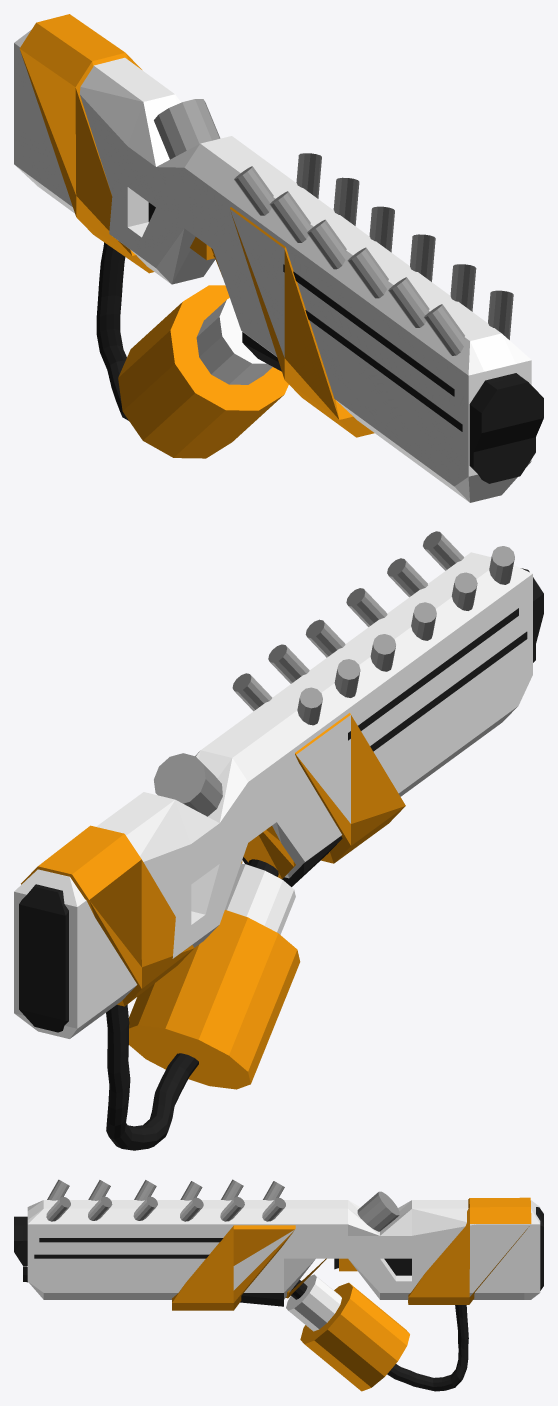
Rendered from Capacitor Rifle.glb.
The picture shows the model from 3 angles, top to bottom: view 1: azimuth 30°, elevation 25°; view 2: azimuth 150°, elevation 25°; view 3: azimuth 270°, elevation 25°; orthographic projection. The views are drawn at different scales.
Parts seen in each view (by area): view 1: group265768751, group201997025, group1638908236, group1494860363, group2056391109, group684696646, group1088588955, group1790223731, group616640639, group1093921766, group1110261251; view 2: group265768751, group201997025, group1638908236, group1538806949, group1790223731, group684696646, group1088588955, group2056391109, group616640639, group1093921766, group1372893271, group1110261251 (+1 smaller); view 3: group265768751, group201997025, group684696646, group1638908236, group1088588955, group1790223731, group2056391109, group1494860363, group616640639, group1606866373, group110904487, group1440918819 (+1 smaller).
Part boxes in pixels (x1,y1,x2,y2): group265768751: (14,30,531,502); group201997025: (118,285,288,458); group1638908236: (19,14,153,273); group1494860363: (242,332,543,483); group2056391109: (234,166,464,355); group684696646: (230,207,374,437); group1088588955: (296,153,513,339); group1790223731: (96,242,128,420); group616640639: (154,99,220,159); group1093921766: (283,264,454,396); group1110261251: (305,310,462,431); group265768751: (14,552,532,1038); group201997025: (129,859,300,1089); group1638908236: (21,825,194,1006); group1538806949: (19,884,68,1032); group1790223731: (106,1004,198,1150); group684696646: (295,713,405,863); group1088588955: (232,531,463,711); group2056391109: (297,546,514,725); group616640639: (154,753,222,816); group1093921766: (348,608,518,740); group1372893271: (243,826,295,878); group1110261251: (370,631,527,751); group265768751: (27,1200,540,1299); group201997025: (286,1274,409,1391); group684696646: (172,1225,295,1310); group1638908236: (408,1197,531,1304); group1088588955: (46,1196,285,1221); group1790223731: (387,1305,468,1391); group2056391109: (47,1179,284,1200); group1494860363: (14,1216,283,1306); group616640639: (357,1191,399,1231); group1606866373: (39,1238,223,1242); group110904487: (34,1254,209,1258); group1440918819: (384,1258,411,1275).
Bounding box in the file's own units: 0.1721 × 0.4927 × 1.16.
